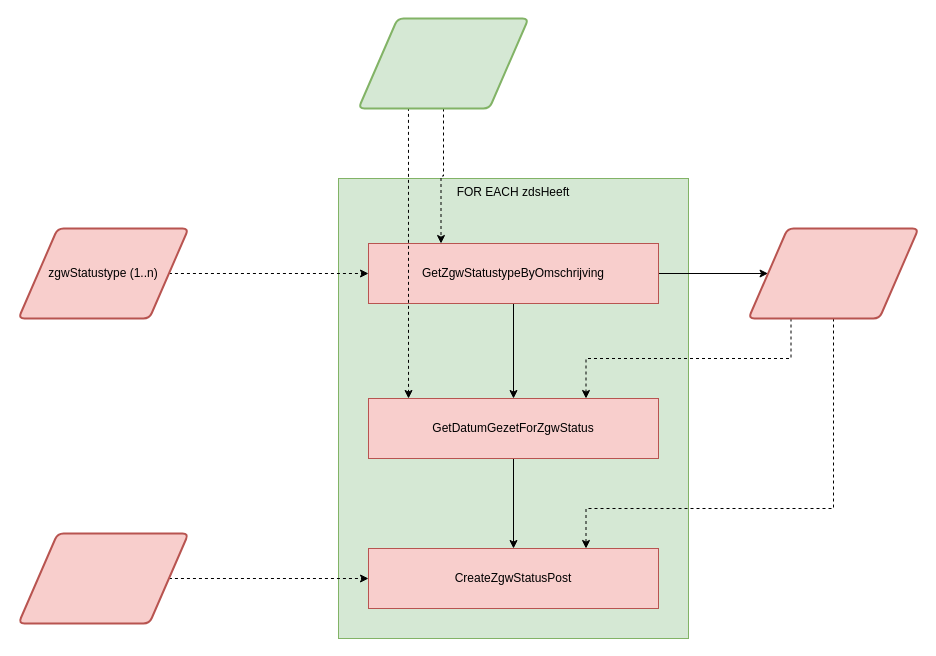
Image size: 936x656. Some labels were removed from this diagram. Each missing label, with the centre of its shape:
zdsZaak: the point at 443,63
zgwStatustype (1): the point at 833,273
zgwZaak: the point at 103,578
